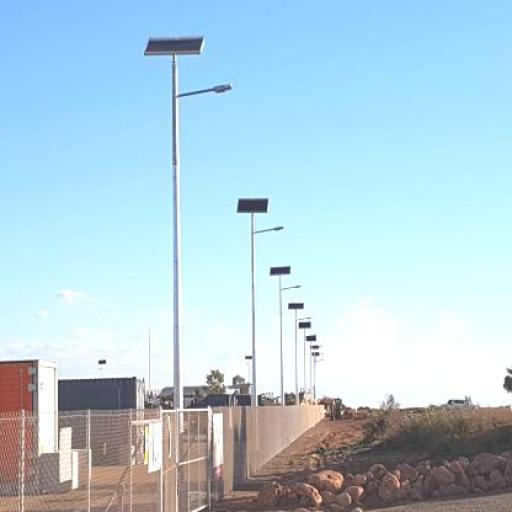street light: (172, 84, 234, 484), (252, 225, 285, 451), (280, 284, 302, 436), (296, 316, 314, 422)
